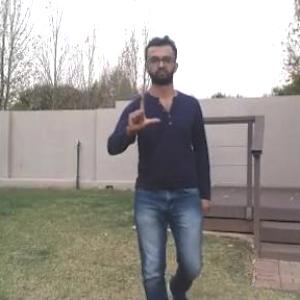land_hand: (122, 86, 163, 136)
